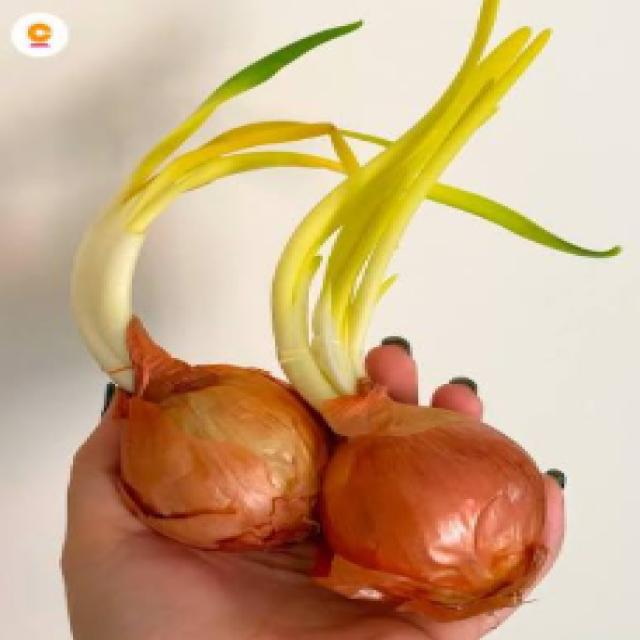sprouting: (258, 35, 570, 610), (65, 63, 342, 542)
